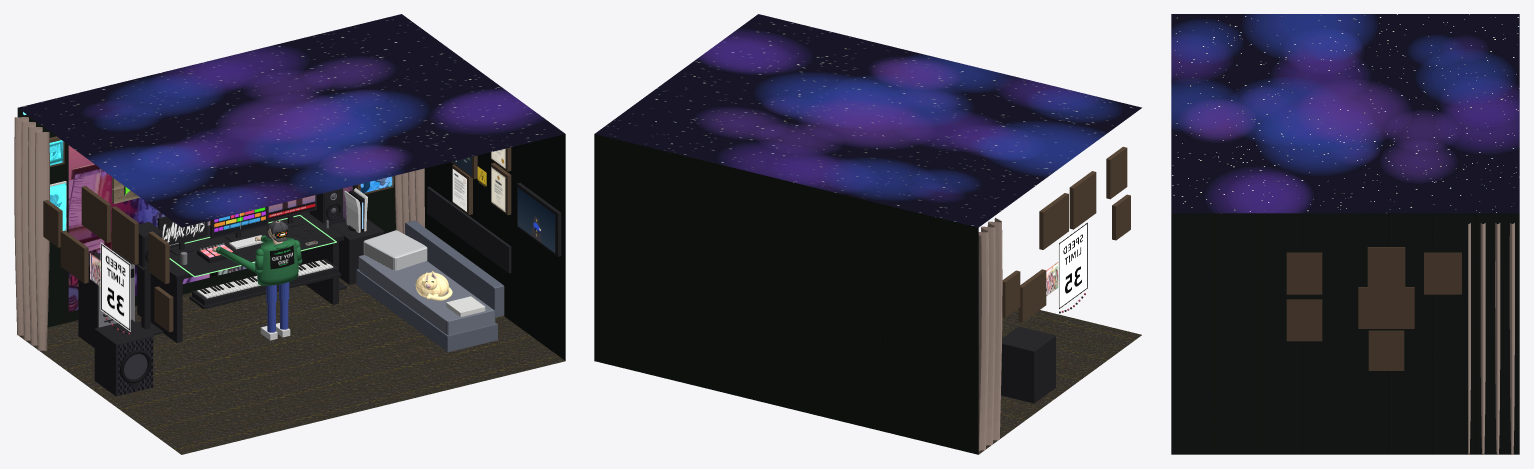
The model's file is studio13.glb.
3 renders of one model, left to right at view 1: azimuth 30°, elevation 25°; view 2: azimuth 150°, elevation 25°; view 3: azimuth 270°, elevation 25°, orthographic. The views are drawn at different scales.
Parts seen in each view (by area): view 1: Ceiling, Floor, RightWall, CurtainLeft, Tapestry, BackWall, FutonMattress, LittleLumar_Body, FutonBack, DeskMat, FutonBase, AcousticFoam (+25 smaller); view 2: BackWall, Ceiling, Floor, CurtainLeft, SubwooferL, SpeedLimit35, ArtCollage_frame, ArtSneaker_frame, ArtLuMar_frame, ArtTarget_frame, ArtAnime_frame, ArtCamila_frame; view 3: RightWall, Ceiling, CurtainRight, ShadowBox_frame, Cert2_frame, Cert1_frame, Cert3_frame, Cert5_frame, Cert4_frame.
Boxes of the visible parts, x1,y1,x2,y2 form: Ceiling: (18, 14, 564, 227); Floor: (18, 277, 565, 454); RightWall: (424, 134, 565, 360); CurtainLeft: (14, 117, 49, 350); Tapestry: (68, 145, 352, 311); BackWall: (17, 108, 395, 327); FutonMattress: (358, 255, 495, 335); LittleLumar_Body: (212, 235, 302, 340); FutonBack: (405, 220, 504, 317); DeskMat: (169, 216, 334, 275); FutonBase: (356, 269, 497, 352); AcousticFoam: (427, 186, 511, 273); BackWall: (594, 134, 978, 454); Ceiling: (595, 14, 1141, 227); Floor: (978, 309, 1141, 454); CurtainLeft: (978, 218, 1002, 454); SubwooferL: (1001, 326, 1055, 403); SpeedLimit35: (1058, 221, 1088, 310); ArtCollage_frame: (1069, 171, 1096, 229); ArtSneaker_frame: (1039, 193, 1068, 249); ArtLuMar_frame: (1018, 269, 1046, 322); ArtTarget_frame: (1106, 146, 1127, 199); ArtAnime_frame: (1002, 270, 1020, 317); ArtCamila_frame: (1112, 194, 1130, 240); RightWall: (1171, 213, 1519, 454); Ceiling: (1171, 14, 1519, 213); CurtainRight: (1468, 223, 1514, 454); ShadowBox_frame: (1358, 287, 1414, 328); Cert2_frame: (1424, 252, 1461, 294); Cert1_frame: (1367, 247, 1405, 287); Cert3_frame: (1286, 252, 1322, 294); Cert5_frame: (1286, 299, 1322, 341); Cert4_frame: (1368, 330, 1404, 370).
Size of the model in its own units: 4.68 by 2.6 by 3.4.
Materials: 79 (40 with a texture image).
